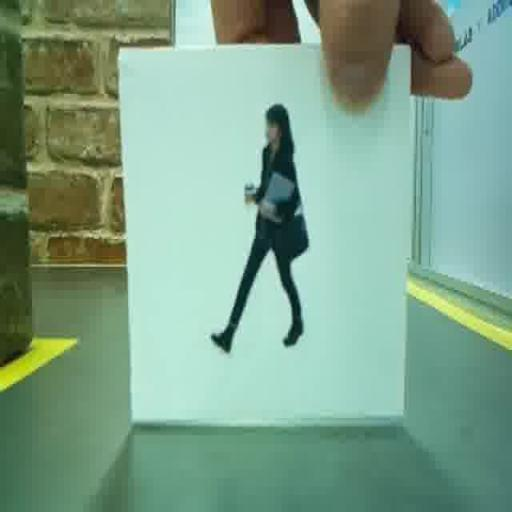human: (211, 105, 308, 350)
